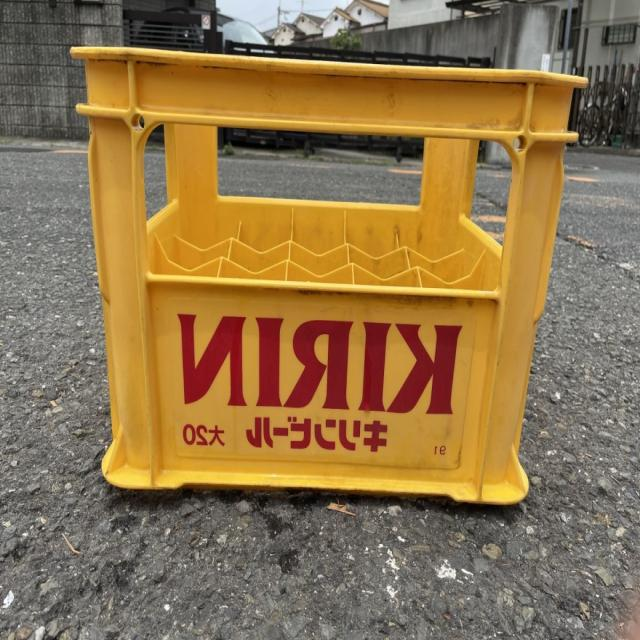plastic: (76, 39, 583, 517)
